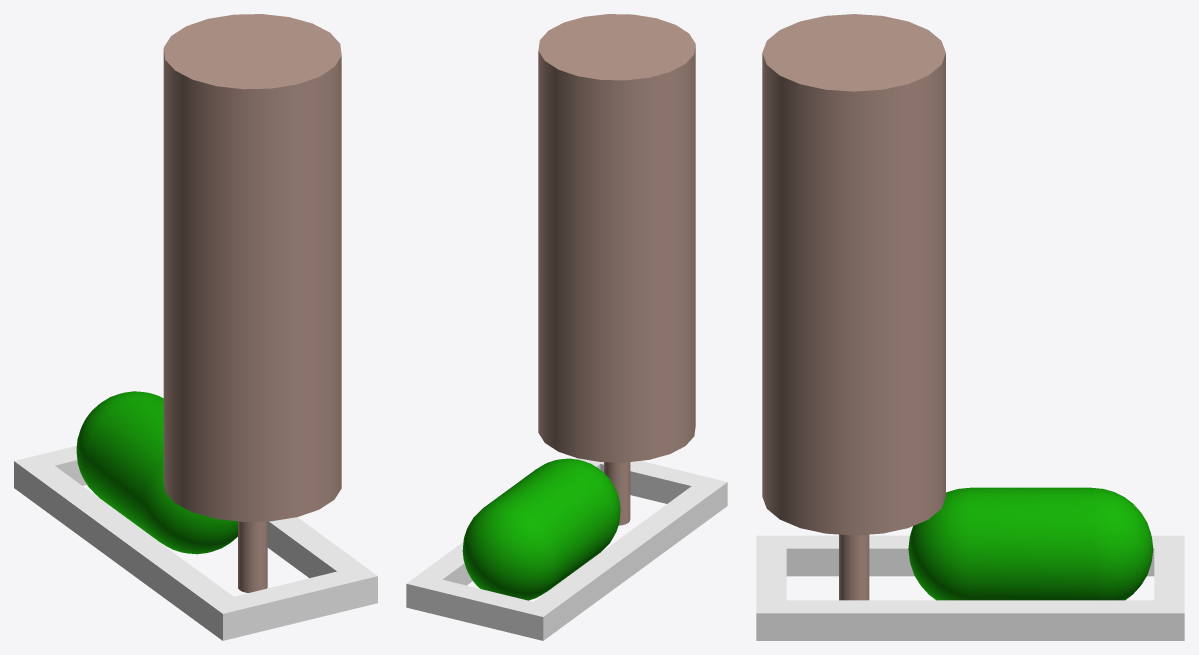
Rendered from StreetFoilage3_PH.fbx.
3 renders of one model, left to right at view 1: azimuth 30°, elevation 25°; view 2: azimuth 150°, elevation 25°; view 3: azimuth 270°, elevation 25°, orthographic. The views are drawn at different scales.
Parts seen in each view (by area): view 1: Tree__11_, Bush__23_, BuildingBorer__11_, BuildingBorer__17_, BuildingBorer__12_, Tree__10_, BuildingBorer__18_; view 2: Tree__11_, Bush__23_, BuildingBorer__11_, BuildingBorer__18_, BuildingBorer__17_, BuildingBorer__12_, Tree__10_; view 3: Tree__11_, Bush__23_, BuildingBorer__12_, BuildingBorer__11_, BuildingBorer__18_, BuildingBorer__17_, Tree__10_.
Boxes of the visible parts, x1,y1,x2,y2 form: Tree__11_: [163, 14, 341, 521]; Bush__23_: [76, 391, 237, 554]; BuildingBorer__11_: [29, 465, 233, 629]; BuildingBorer__17_: [208, 565, 377, 640]; BuildingBorer__12_: [267, 517, 362, 578]; Tree__10_: [238, 521, 267, 592]; BuildingBorer__18_: [14, 445, 86, 498]; Tree__11_: [538, 14, 695, 462]; Bush__23_: [462, 458, 620, 600]; BuildingBorer__11_: [534, 486, 714, 630]; BuildingBorer__18_: [406, 574, 556, 640]; BuildingBorer__17_: [580, 458, 727, 514]; BuildingBorer__12_: [420, 458, 600, 585]; Tree__10_: [604, 462, 630, 525]; Tree__11_: [762, 14, 945, 535]; Bush__23_: [908, 487, 1153, 600]; BuildingBorer__12_: [786, 600, 1154, 640]; BuildingBorer__11_: [786, 535, 1154, 576]; BuildingBorer__18_: [1154, 535, 1184, 640]; BuildingBorer__17_: [756, 535, 786, 640]; Tree__10_: [839, 534, 869, 600].
Size of the model in its own units: 150 by 497 by 350.
